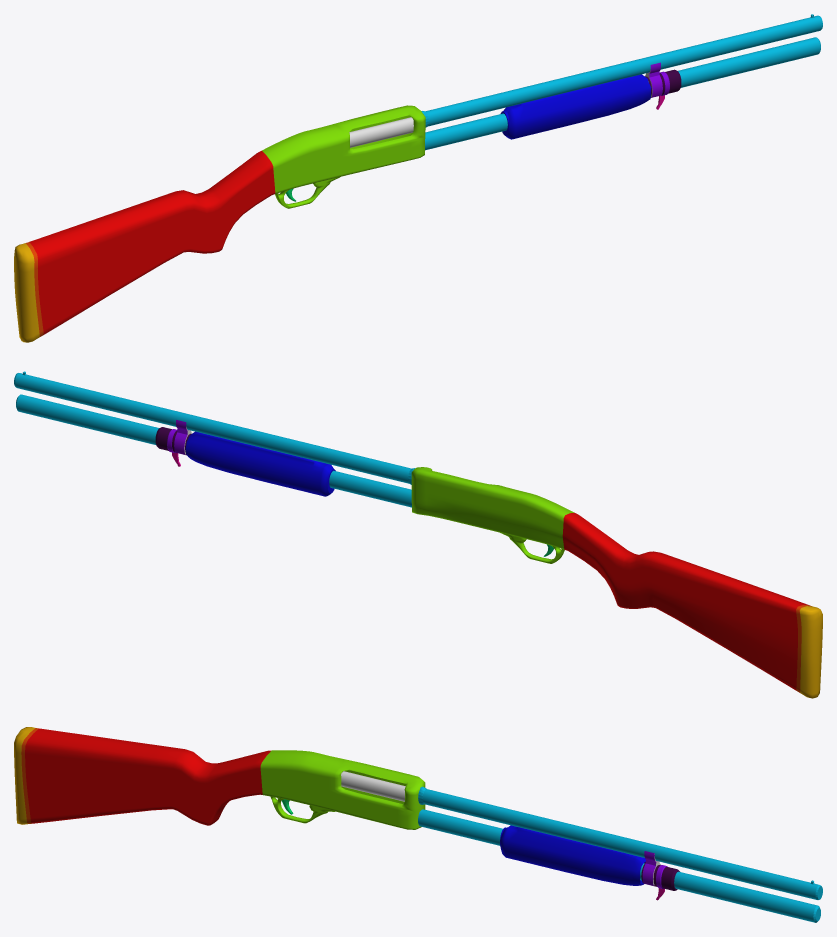
The model's file is 샷건SUb.fbx.
3 views of the same model, one above another, from view 1: azimuth 30°, elevation 25°; view 2: azimuth 150°, elevation 25°; view 3: azimuth 330°, elevation 25° (orthographic).
Parts seen in each view (by area): view 1: Object; view 2: Object; view 3: Object.
Part boxes in pixels (x1,y1,x2,y2): Object: (14,14,822,342); Object: (14,371,822,698); Object: (14,727,822,922).
Bounding box in the file's own units: 930 × 151 × 25.99.
